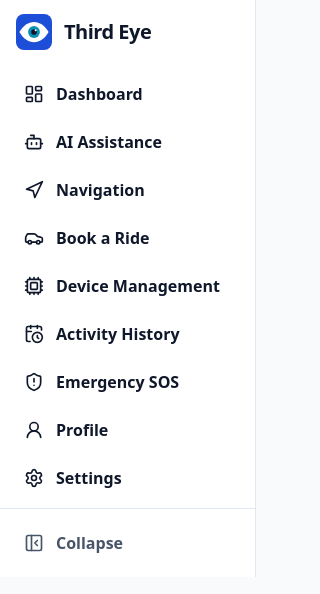
Sidebar › collapse toggle updates aria-expanded
Step 1. Click the button with aria-label "collapse sidebar" → [128, 543], box [12,521,243,565]
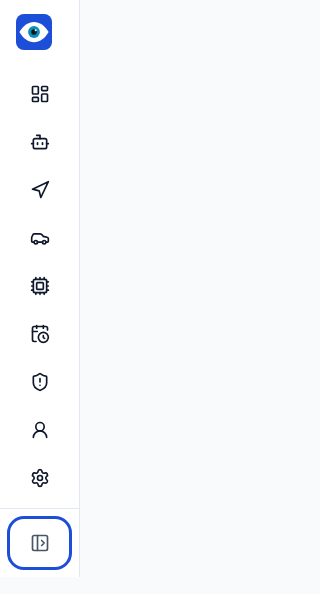
Expected: the button named "collapse sidebar" is collapsed, [12,521,67,565]
